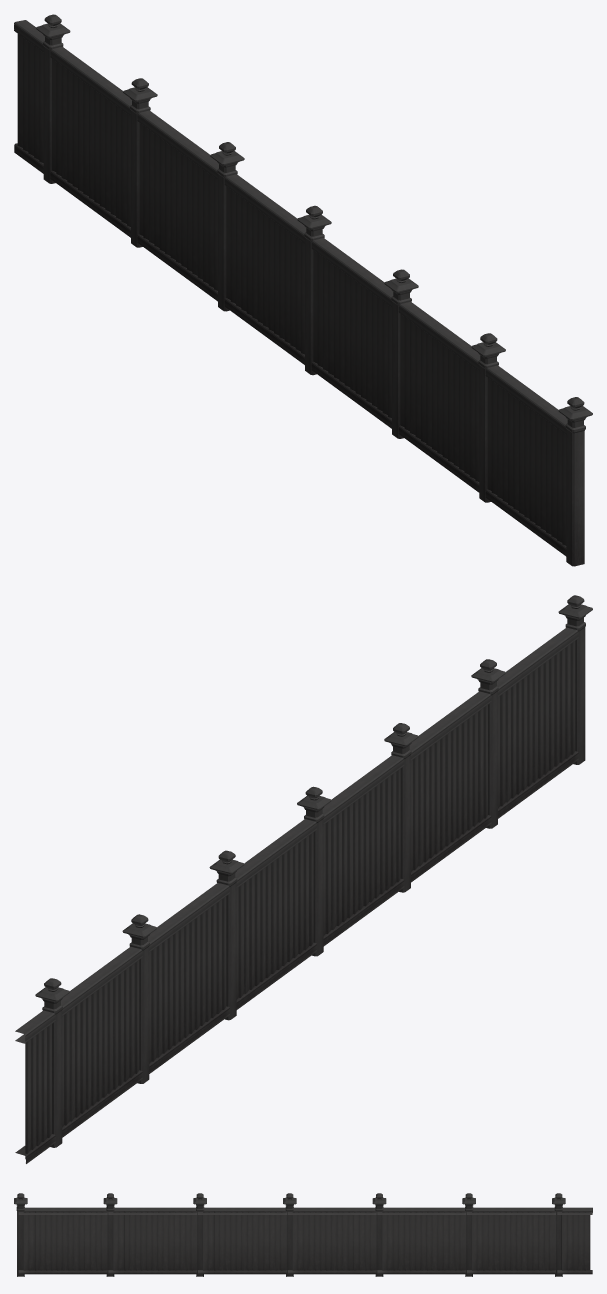
File: ChristmasRoom_Fence01.fbx
3 renders of one model, top to bottom at view 1: azimuth 30°, elevation 25°; view 2: azimuth 150°, elevation 25°; view 3: azimuth 270°, elevation 25°, orthographic. The views are drawn at different scales.
Visible parts, largest first — view 1: ChristmasRoom_Fence01; view 2: ChristmasRoom_Fence01; view 3: ChristmasRoom_Fence01.
Part boxes in pixels (box(x1,y1,x2,y2)): ChristmasRoom_Fence01: box(14, 14, 592, 566); ChristmasRoom_Fence01: box(15, 595, 592, 1163); ChristmasRoom_Fence01: box(14, 1193, 592, 1276).
Bounding box in the file's own units: 22.86 × 156 × 969.
